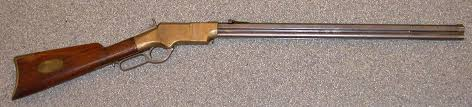gun: (11, 20, 466, 100)
